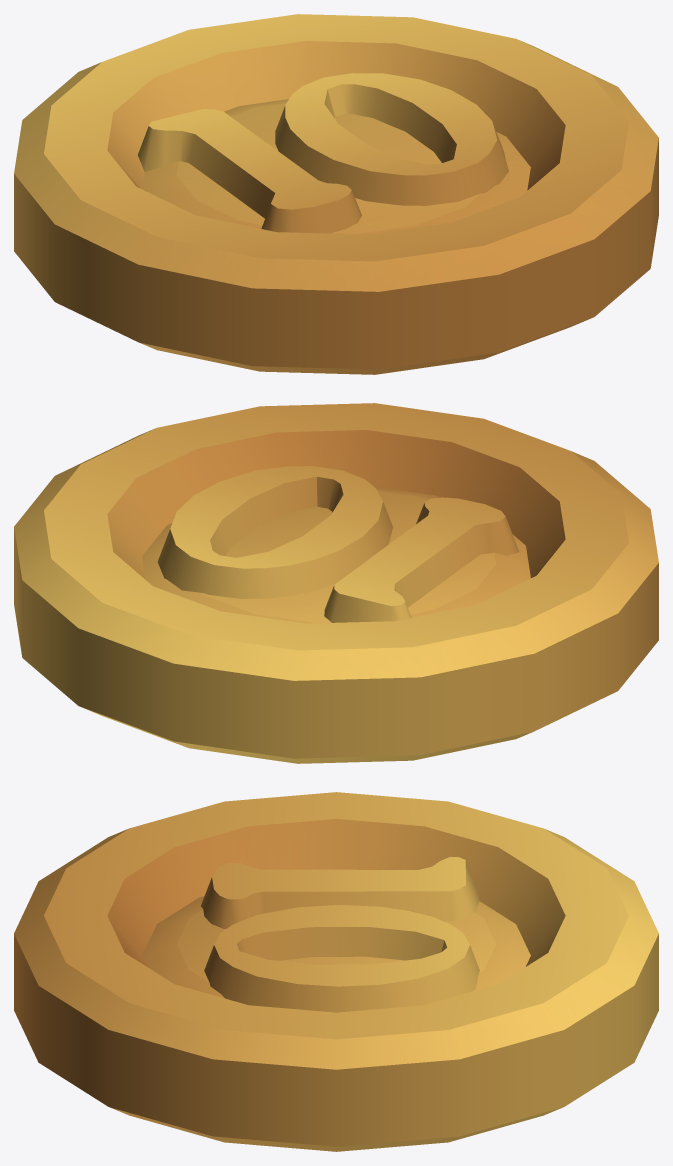
File: coin-10-gold.glb
The picture shows the model from 3 angles, top to bottom: view 1: azimuth 30°, elevation 25°; view 2: azimuth 150°, elevation 25°; view 3: azimuth 270°, elevation 25°; orthographic projection.
Parts seen in each view (by area): view 1: coin_10_gold; view 2: coin_10_gold; view 3: coin_10_gold.
Boxes of the visible parts, left/top/right/bottom form: coin_10_gold: left=14, top=14, right=658, bottom=374; coin_10_gold: left=14, top=403, right=658, bottom=763; coin_10_gold: left=14, top=792, right=658, bottom=1151.
Size of the model in its own units: 1.04 by 0.2 by 1.04.
1 material, 1 textured.
